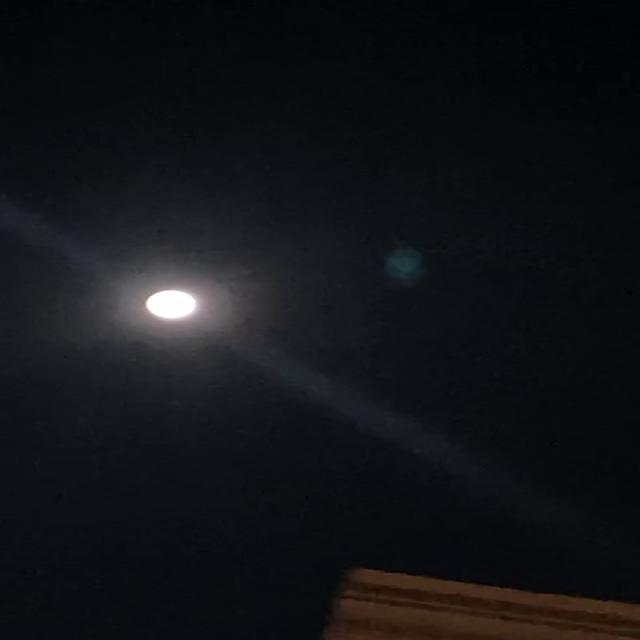moon: (134, 282, 225, 328)
